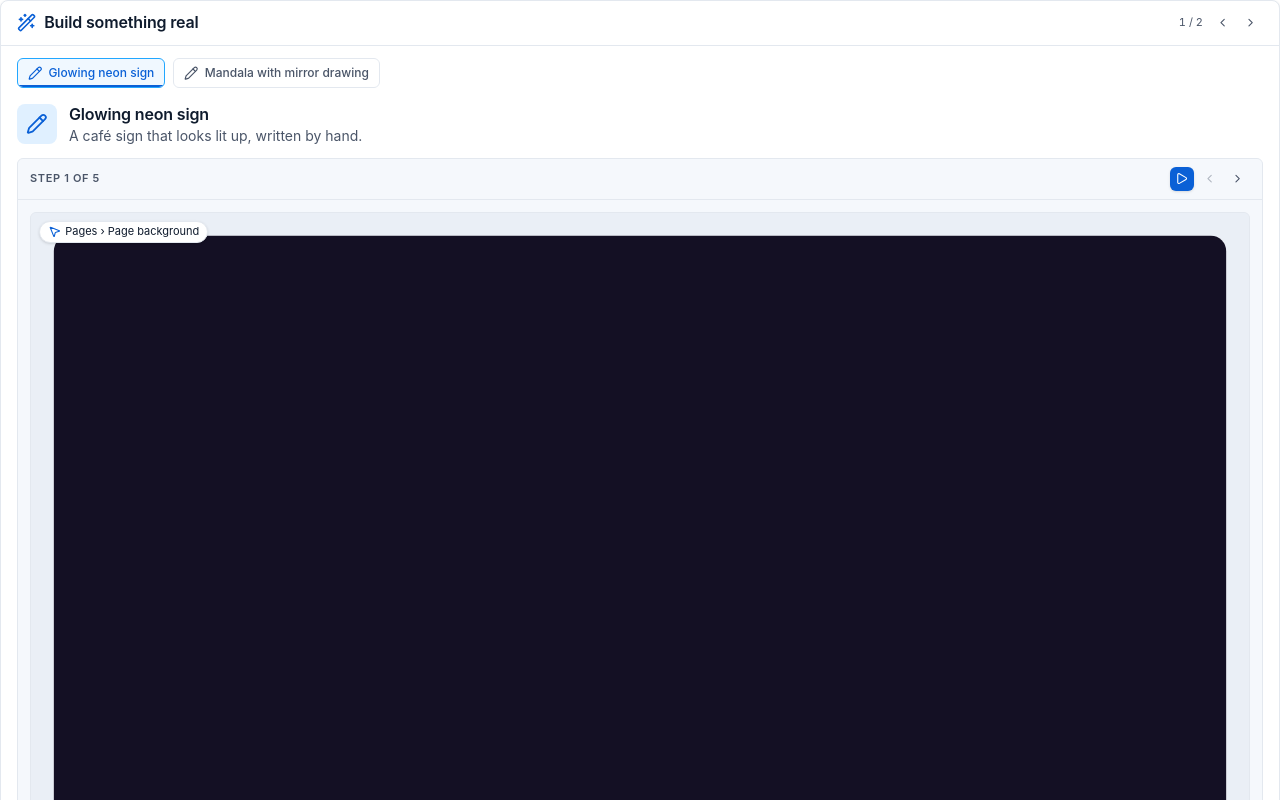
it: ExampleSlider › stops playing when its example slides away
What coordinates should you click on to do the following:
click the button named "Play steps"
I would click on:
 (1182, 179)
Its box is [1170,167,1194,191].
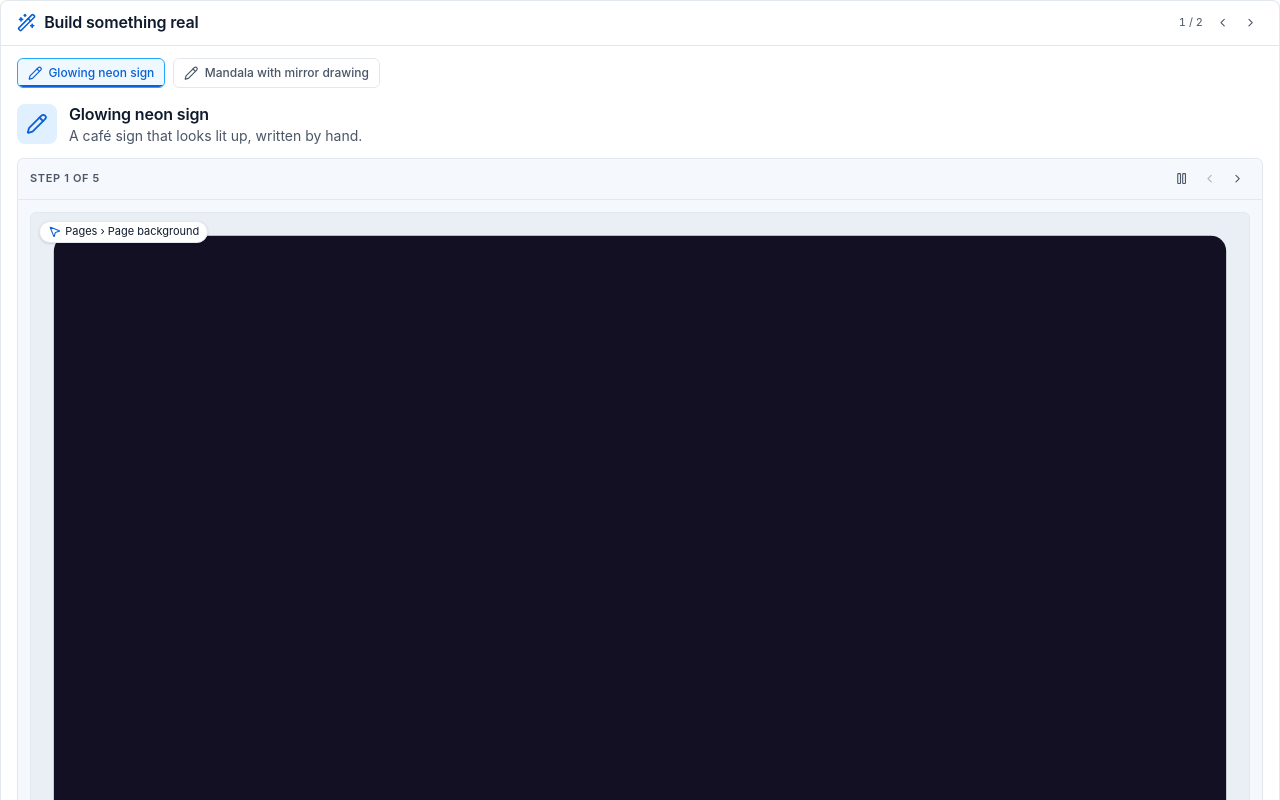
What coordinates should you click on to do the following:
click the button named "Next example"
I would click on:
 (1251, 23)
Its box is [1239,11,1263,35].
Wait 8000 ms
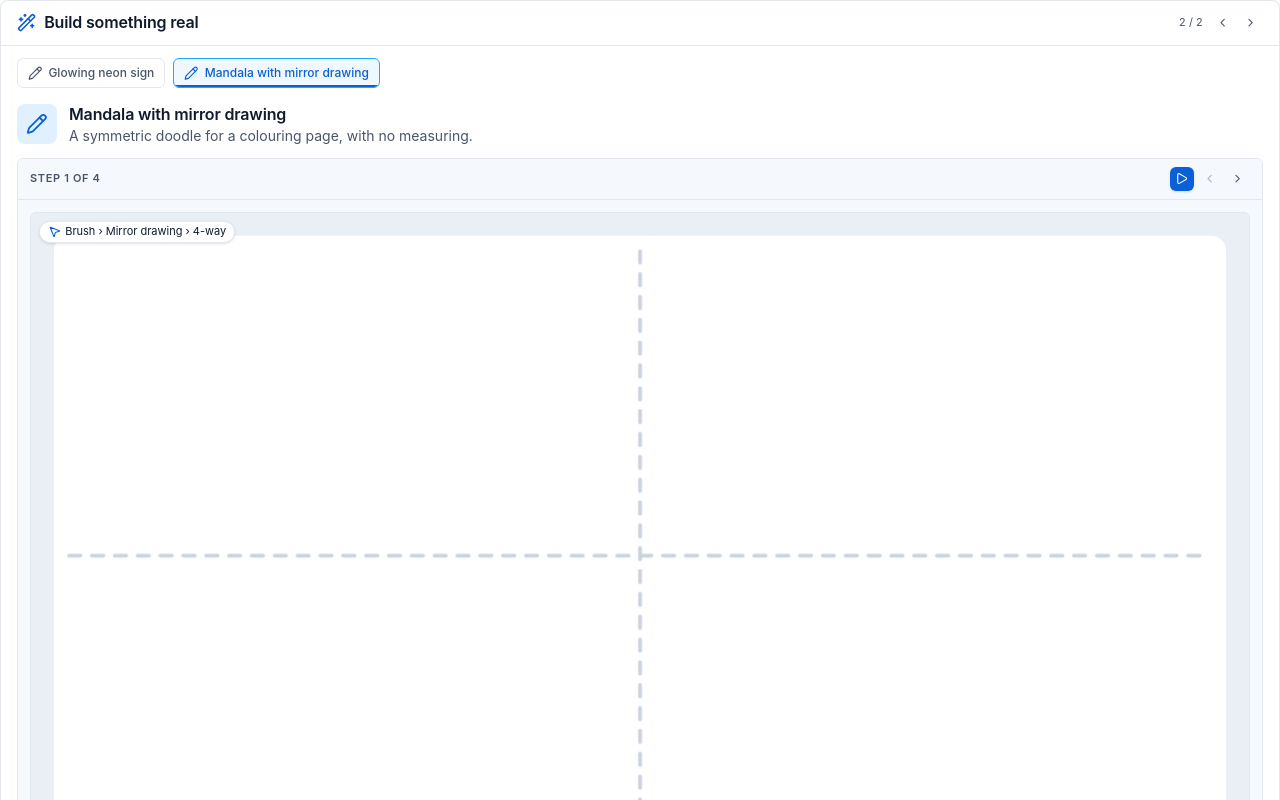
What coordinates should you click on to do the following:
click the button named "Previous example"
I would click on:
 (1223, 23)
Its box is [1211,11,1235,35].
Wait 8000 ms
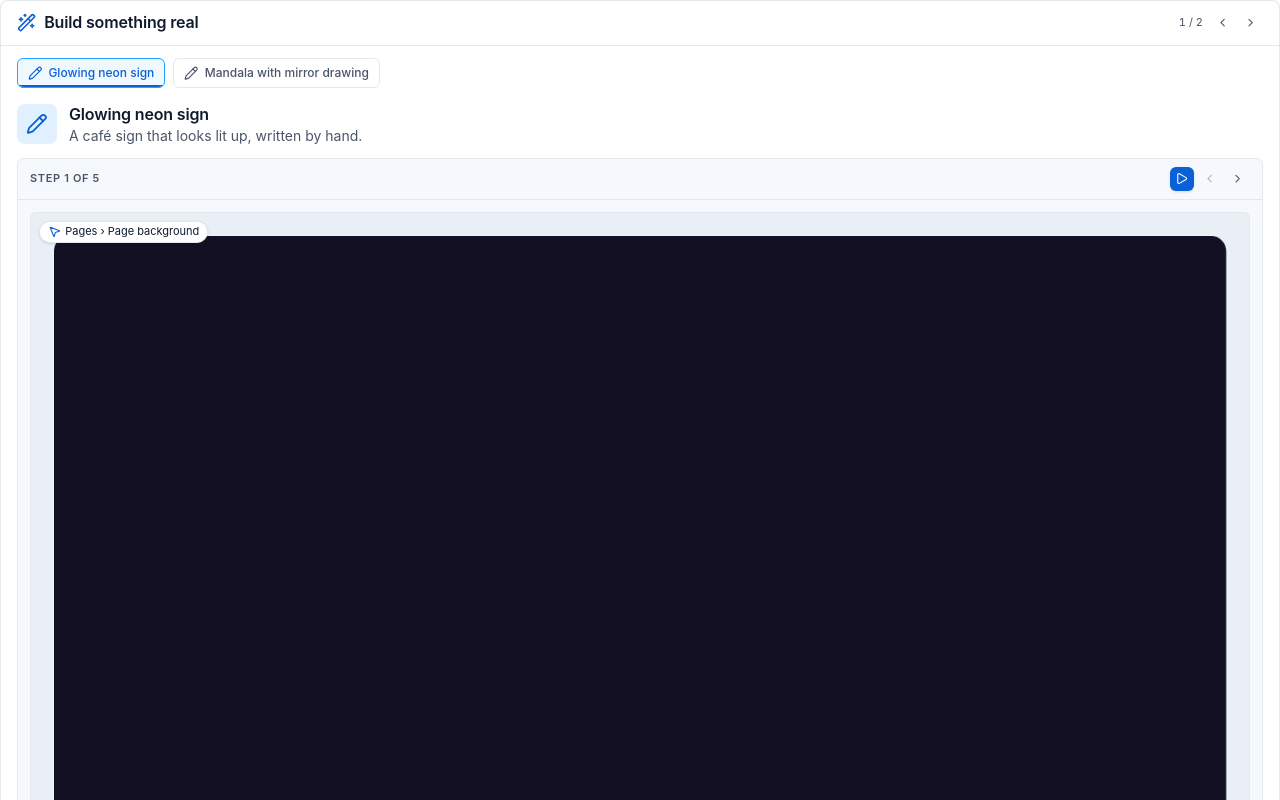
Result: the button named "Play steps" is shown at [1170,167,1194,191]
Result: the message reads "Step 1 of 5" at [30,171,100,185]
